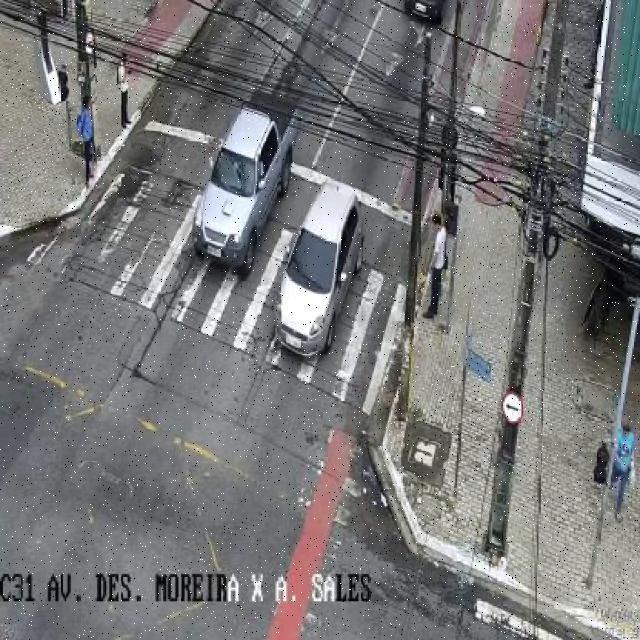Car: (195, 89, 301, 279), (274, 182, 366, 361), (403, 0, 447, 29)
